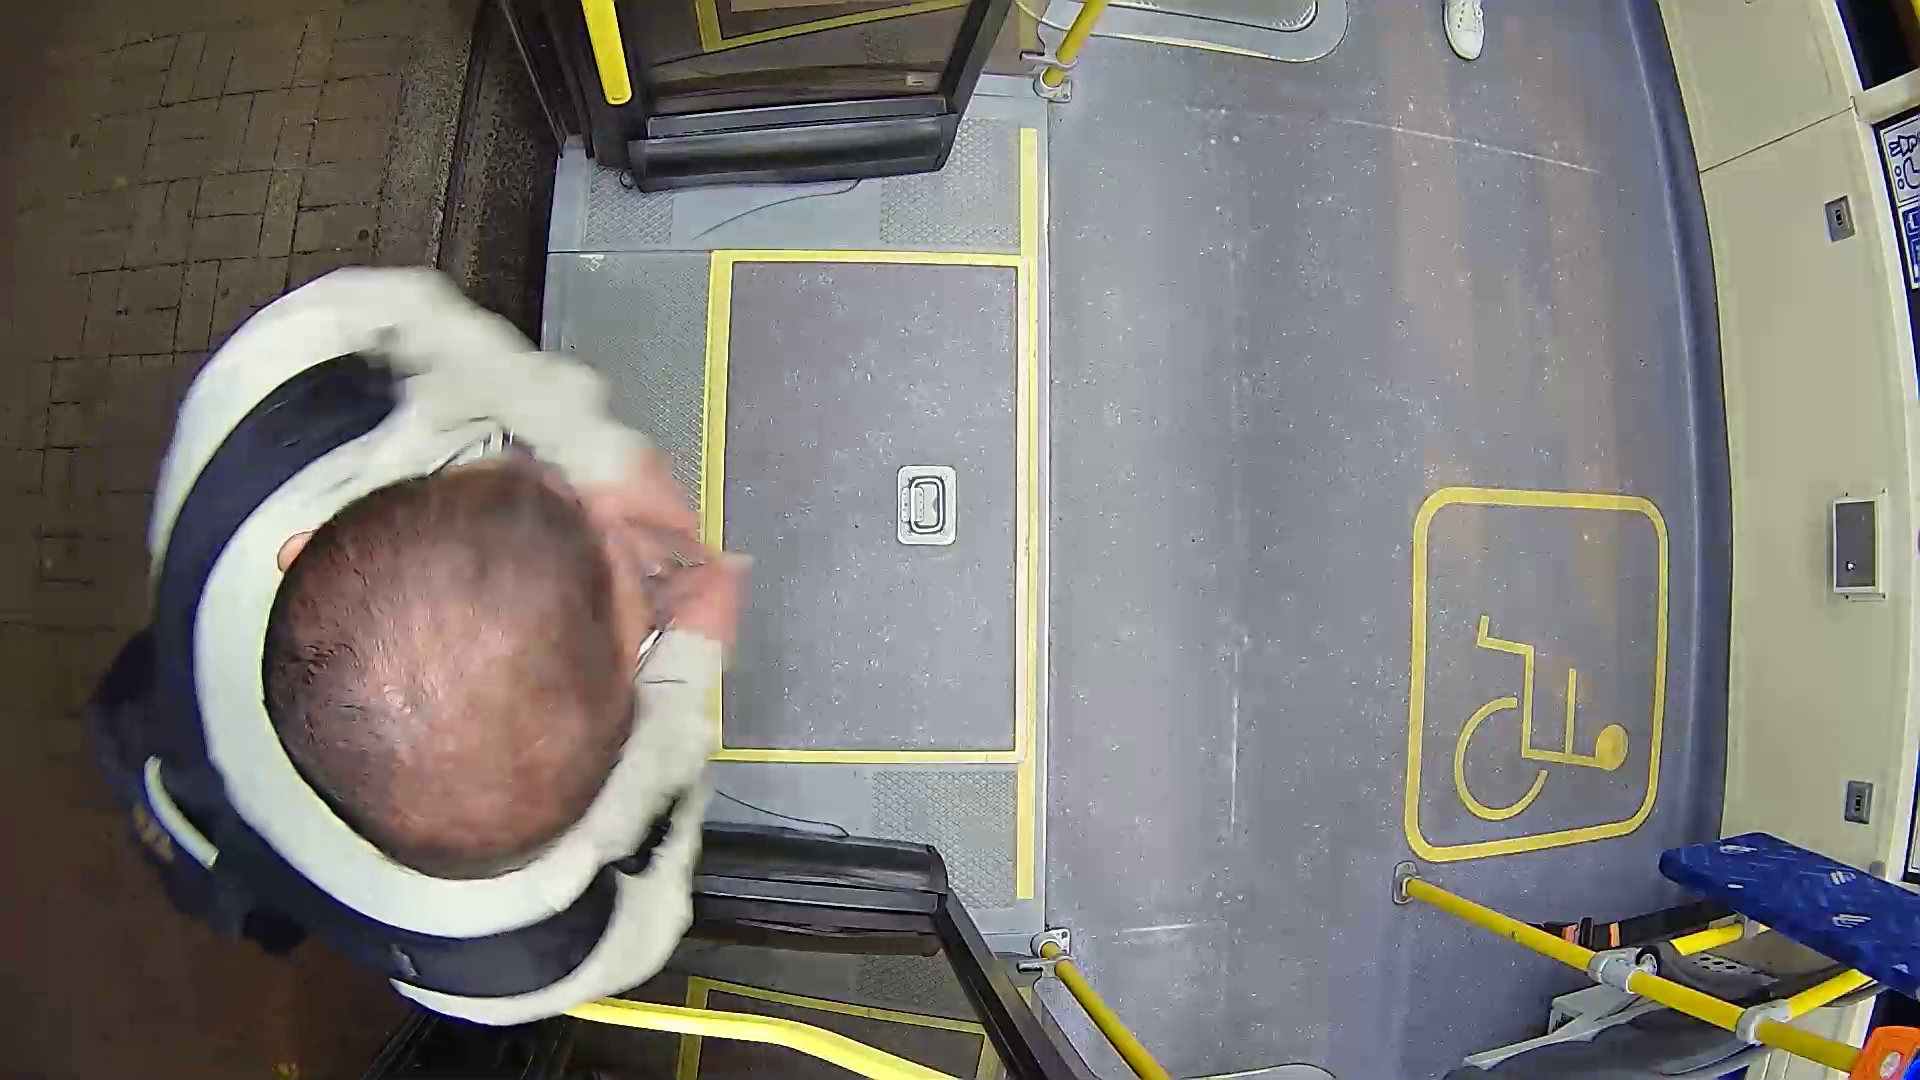person: (137, 263, 791, 1005)
